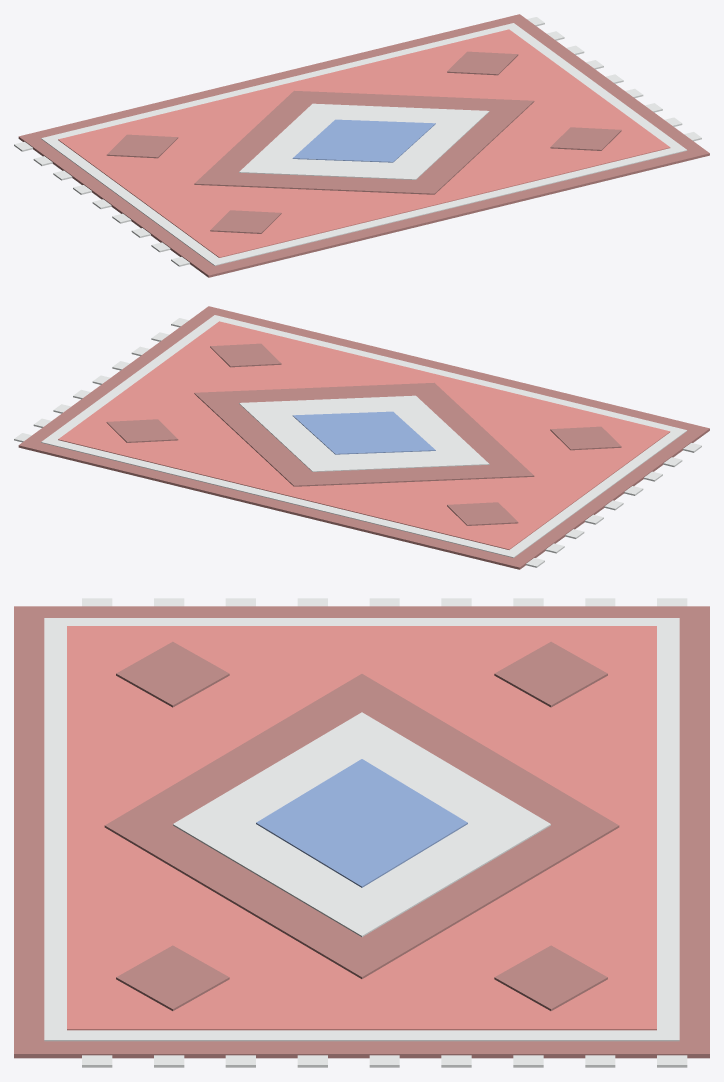
File: rugPersian.glb
3 views of the same model, one above another, from view 1: azimuth 30°, elevation 25°; view 2: azimuth 150°, elevation 25°; view 3: azimuth 270°, elevation 25° (orthographic). The views are drawn at different scales.
Visible parts, largest first — view 1: rugPersian; view 2: rugPersian; view 3: rugPersian.
Boxes of the visible parts, x1,y1,x2,y2 form: rugPersian: (14,14,709,277); rugPersian: (14,306,709,569); rugPersian: (14,598,709,1067).
Size of the model in its own units: 1.46 by 0.017 by 0.92.
